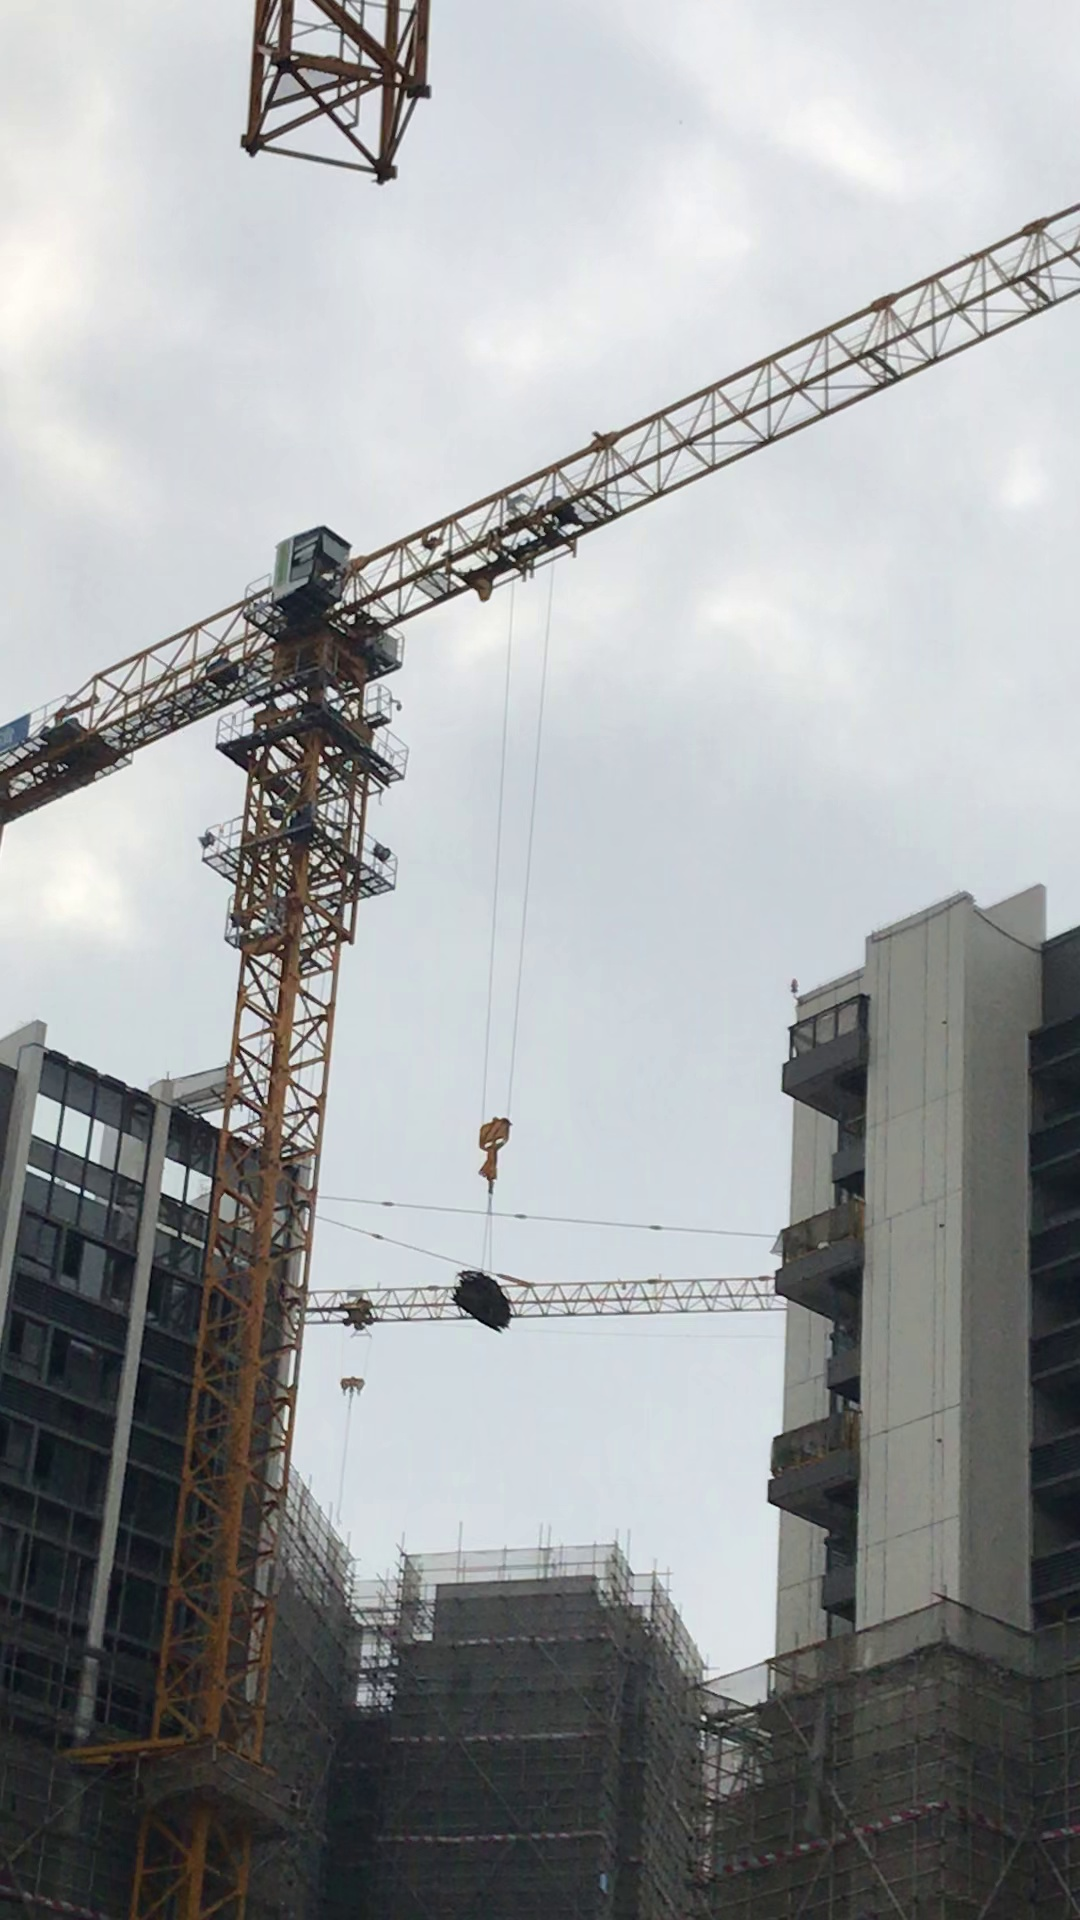board: (452, 1266, 512, 1338)
hook: (477, 1116, 513, 1196), (342, 1375, 368, 1399)
